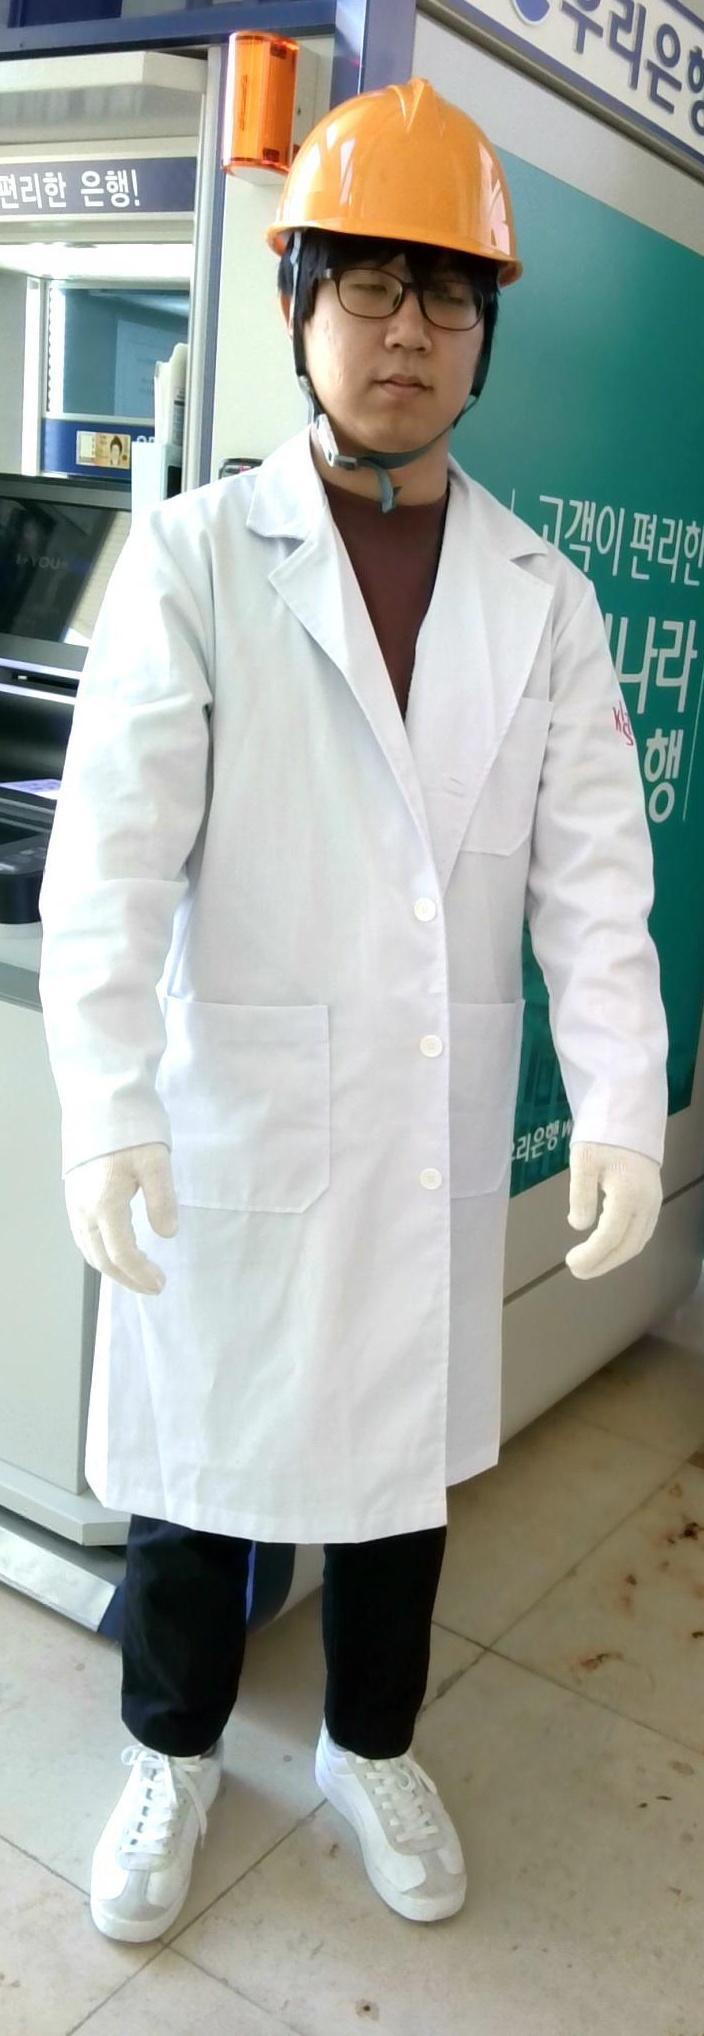lab_coat: (152, 506, 596, 1505)
